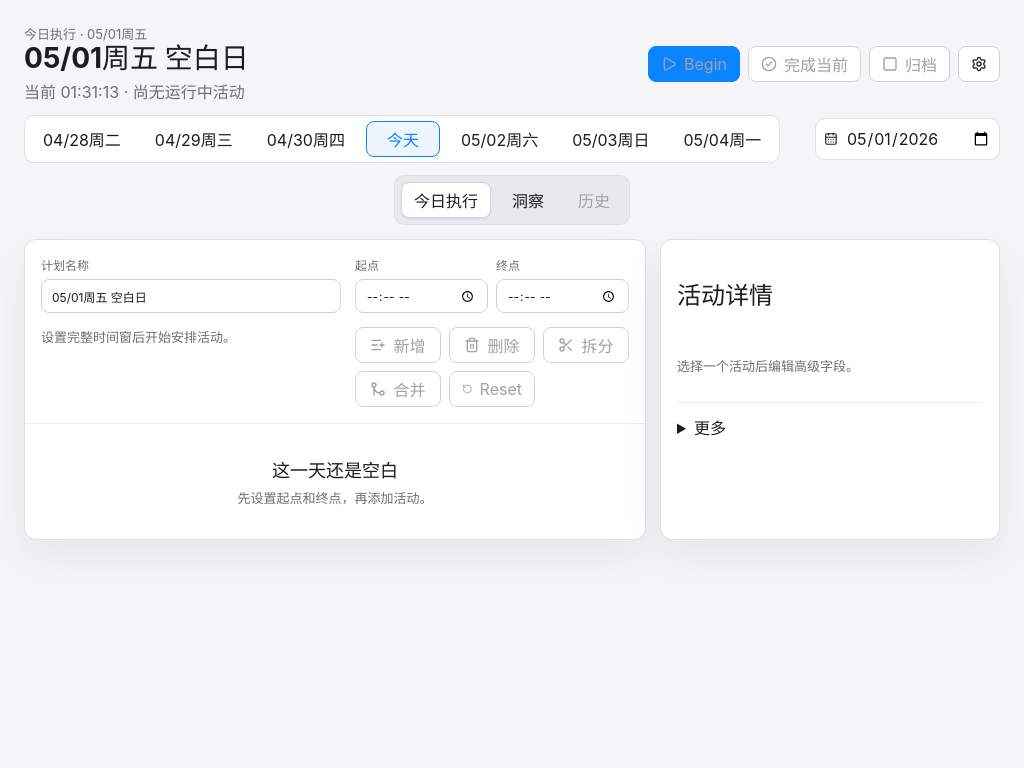
Test: App workflow › opens AI settings from the homepage settings button
Click the button named "设置". click: (979, 64)
box: [958,46,1000,82]
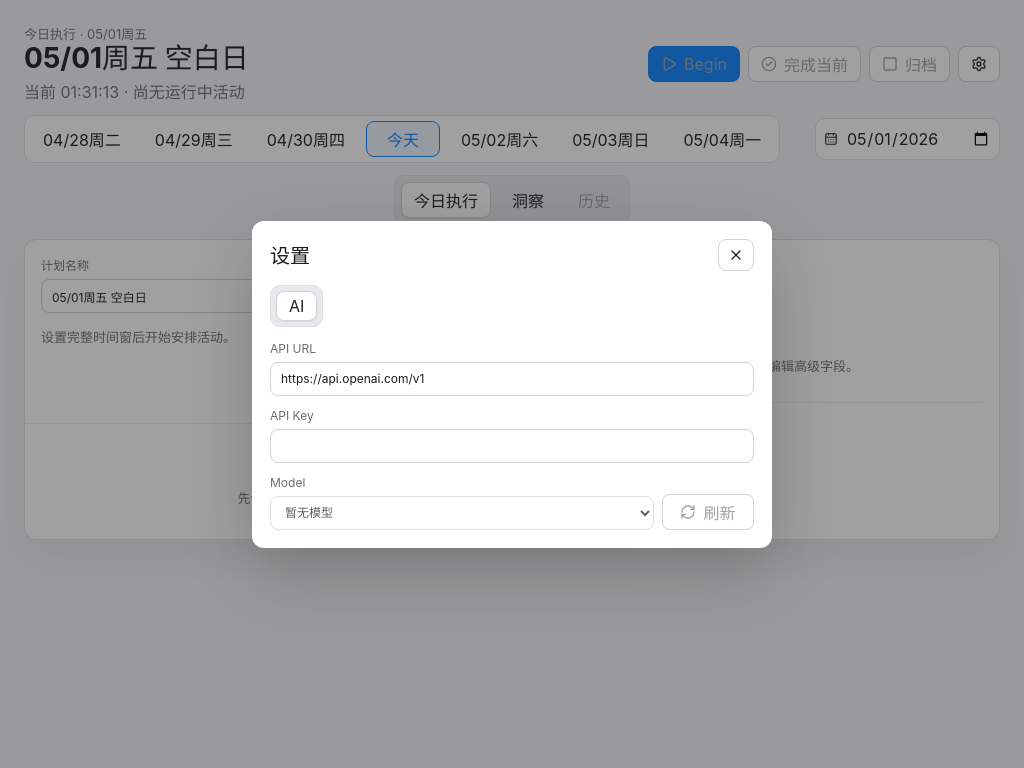
Check: the dialog "设置" is shown, box [252,220,772,548]
Check: the tab "AI" is shown, box [276,290,317,320]
Check: the field labelled "API URL" holds "https://api.openai.com/v1", box [270,362,754,396]
